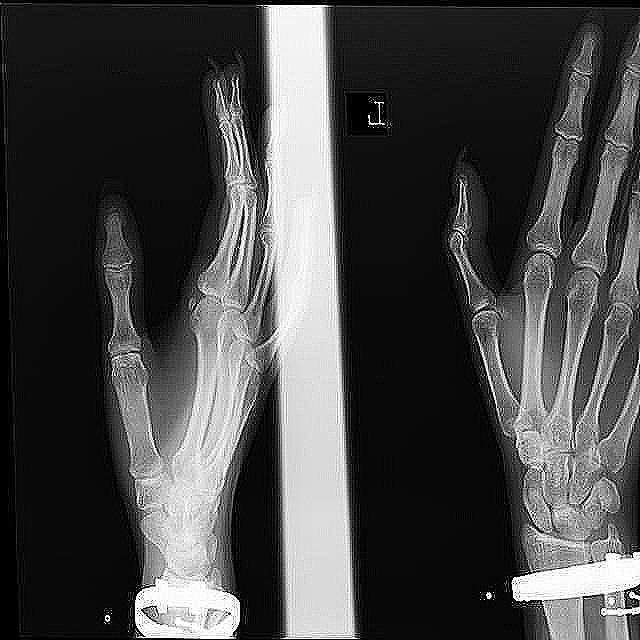bone: (436, 168, 486, 264)
